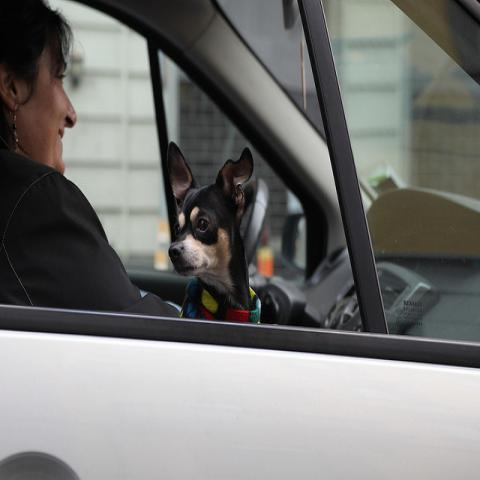car: (1, 4, 475, 473)
